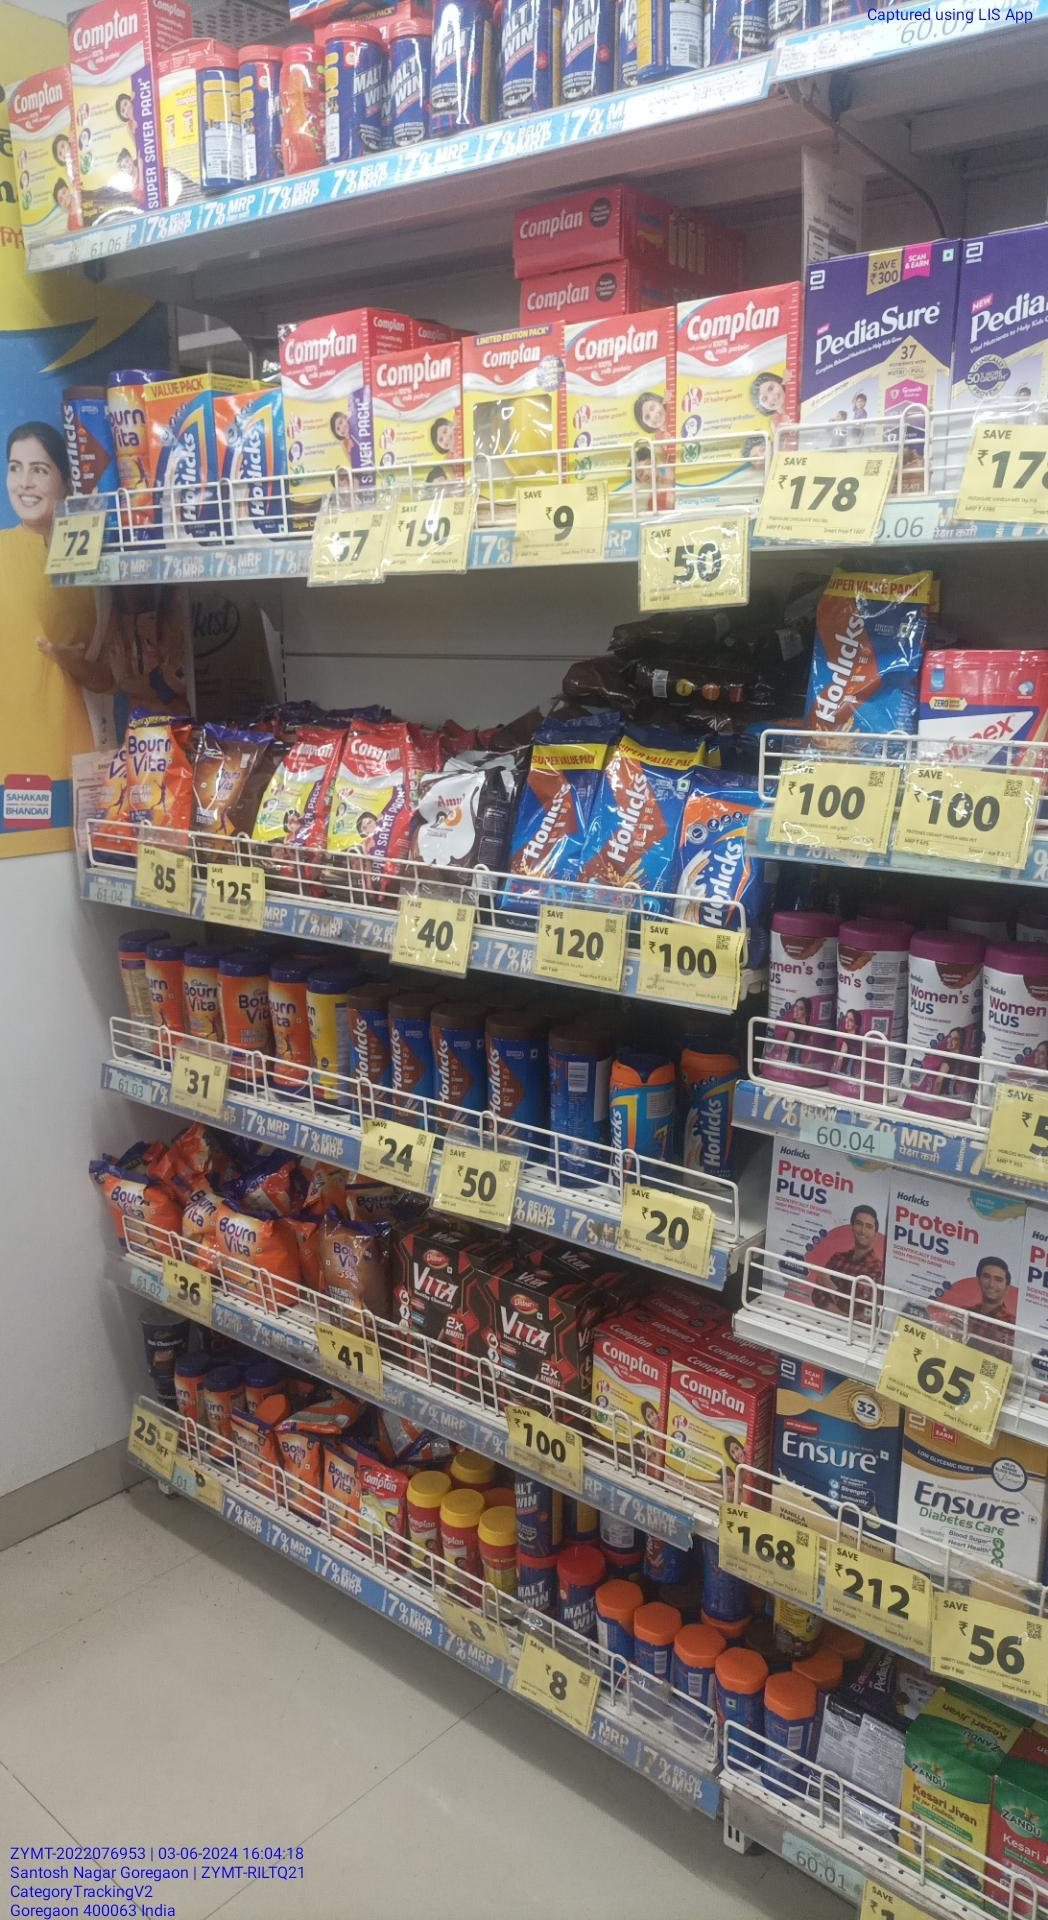BOURN_VITA_500_G_JAR: (219, 954, 271, 1089), (270, 964, 311, 1101), (146, 941, 183, 1075), (182, 952, 218, 1054)
BOURN_VITA_500_G_POUCH: (223, 1209, 302, 1317), (105, 1170, 182, 1255)
BOURN_VITA_75_G_POUCH: (321, 1448, 359, 1539), (277, 1432, 316, 1517), (234, 1426, 275, 1499)
BOURN_VITA_FIVE_STAR_MAGIC_750_G_POUCH: (319, 1218, 385, 1346)
COMPLAN_CHOCOLATE_200_GMS_JAR: (444, 1486, 481, 1599), (409, 1467, 443, 1585)
COMPLAN_CHOCOLATE_200_GMS_PACK: (592, 1333, 662, 1468)
COMPLAN_CREAMY_CLASSIC_500_G_PACK: (680, 293, 796, 511), (567, 315, 674, 507)
COMPLAN_KESAR_BADAM_200_GMS_PACK: (666, 1364, 751, 1507)
COMPLAN_RC_POUCH_700_GMS_12: (337, 721, 412, 906), (254, 721, 330, 895)
HORLICK_CHOCOLATE_500_G_JAR: (484, 1013, 542, 1151), (428, 1001, 480, 1134), (348, 987, 390, 1120), (390, 991, 428, 1125)
HORLICK_CHOCOLATE_750_G_POUCH: (592, 738, 681, 919), (511, 732, 591, 914)
HORLICK_CLASSIC_MALT_500_G_JAR: (679, 1040, 740, 1191), (610, 1049, 658, 1195)
HORLICK_CLASSIC_MALT_500_G_PACK: (217, 395, 284, 538)
HORLICK_CLASSIC_MALT_750_G_POUCH: (685, 773, 765, 947)
